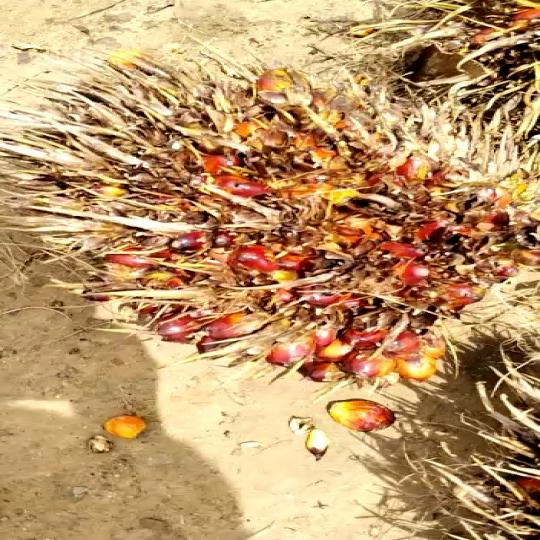terlalu masak: (0, 37, 540, 400)
